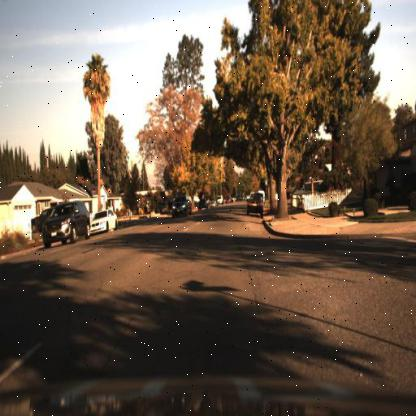car: (42, 201, 90, 250), (92, 204, 118, 238), (166, 189, 192, 222), (244, 192, 266, 221), (169, 190, 193, 216), (27, 210, 46, 230), (194, 196, 209, 214)
